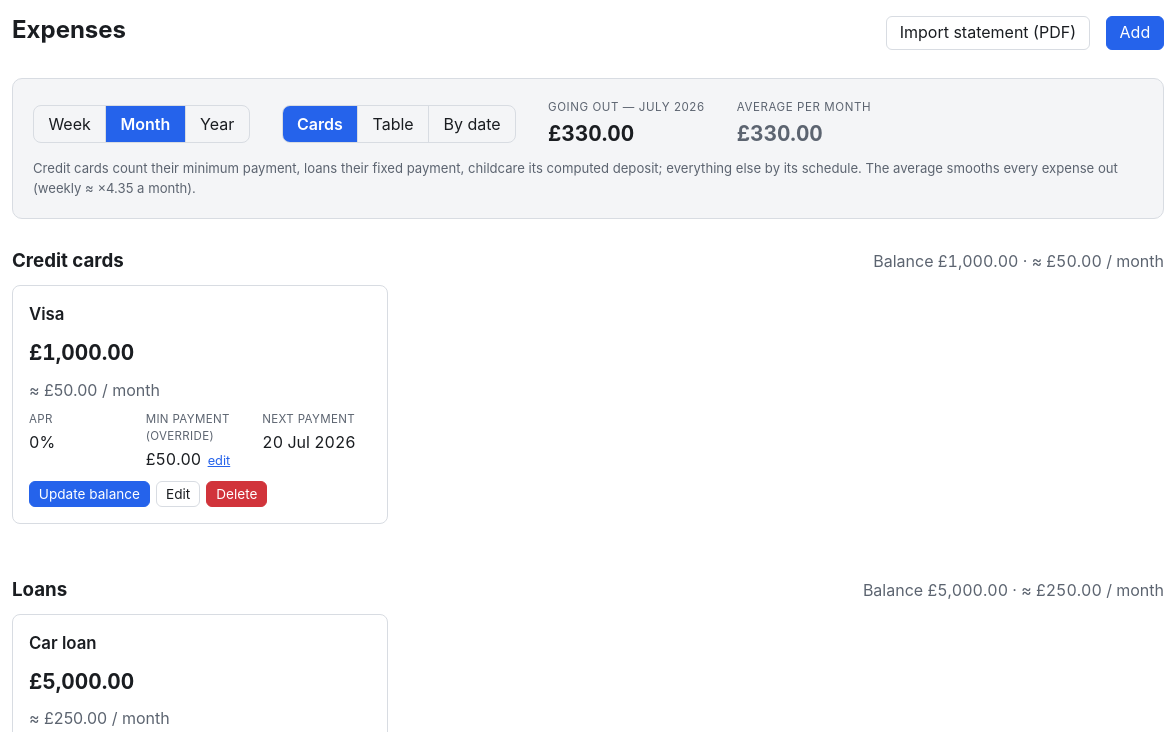
it: Expenses screen › totals the month (card min + loan payment + bills) and switches periods
Expected: the text "Visa" is shown, [29, 302, 64, 327]
Expected: the text "Going out — July 2026" is shown, [548, 99, 705, 116]
Note: Week of Mon 6 Jul: nothing lands (15th/20th/28th are later) → £0.00 actual.
Step 1. Click the button "Week" → (70,124), box [34, 106, 105, 142]
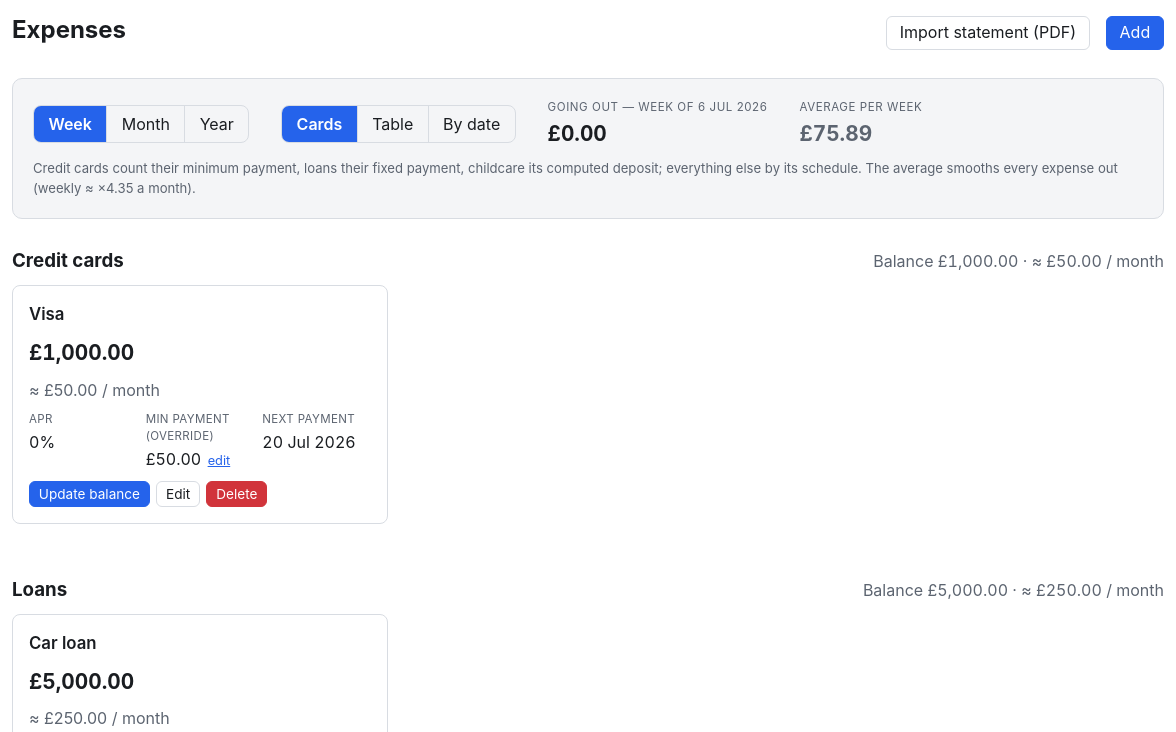
Expected: the text "Going out — Week of 6 Jul 2026" is shown, [548, 99, 767, 116]
Expected: the text "£0.00" is shown, [548, 121, 607, 146]
Step 2. Click the button "Year" → (216,124), box [184, 106, 248, 142]
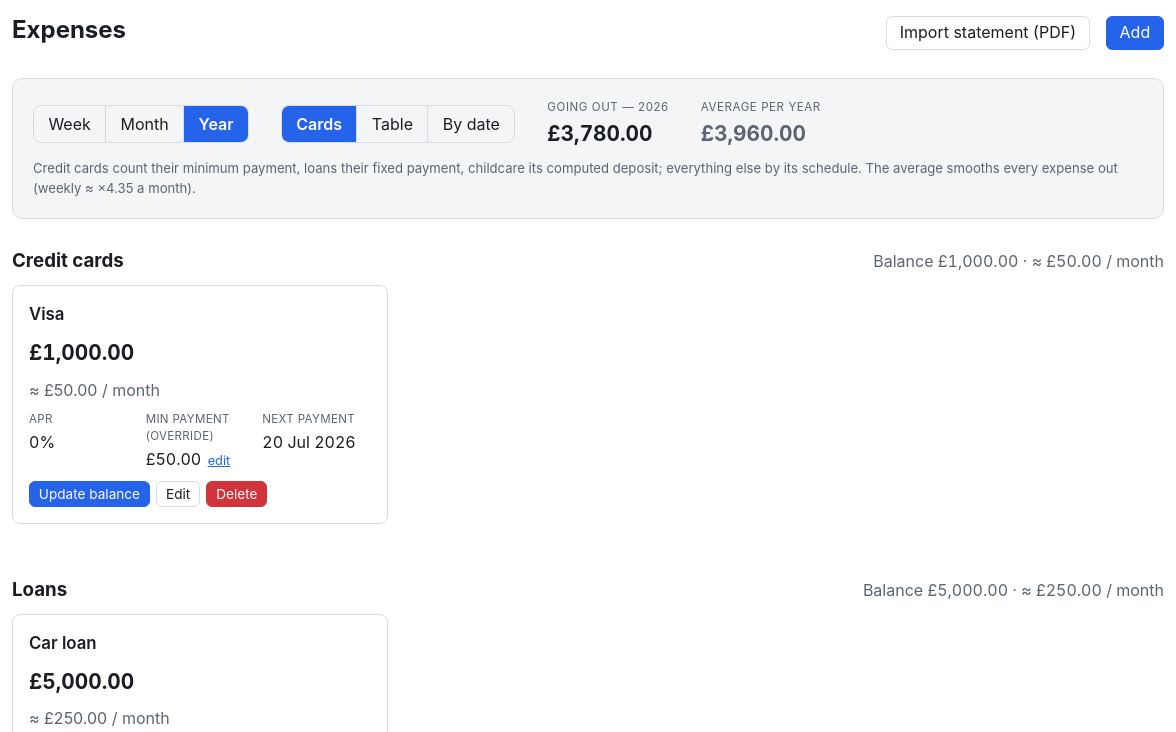
Expected: the text "Going out — 2026" is shown, [547, 99, 669, 116]
Expected: the text "£3,780.00" is shown, [547, 118, 669, 149]
